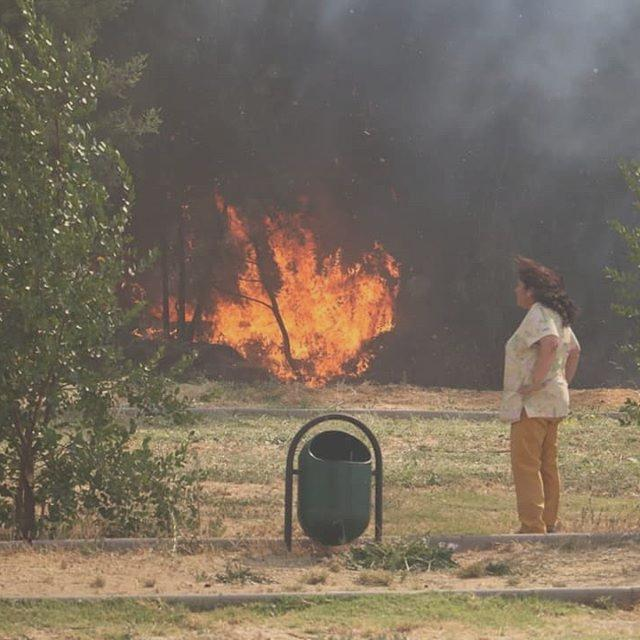Fire: (210, 194, 404, 384), (157, 294, 207, 323)
